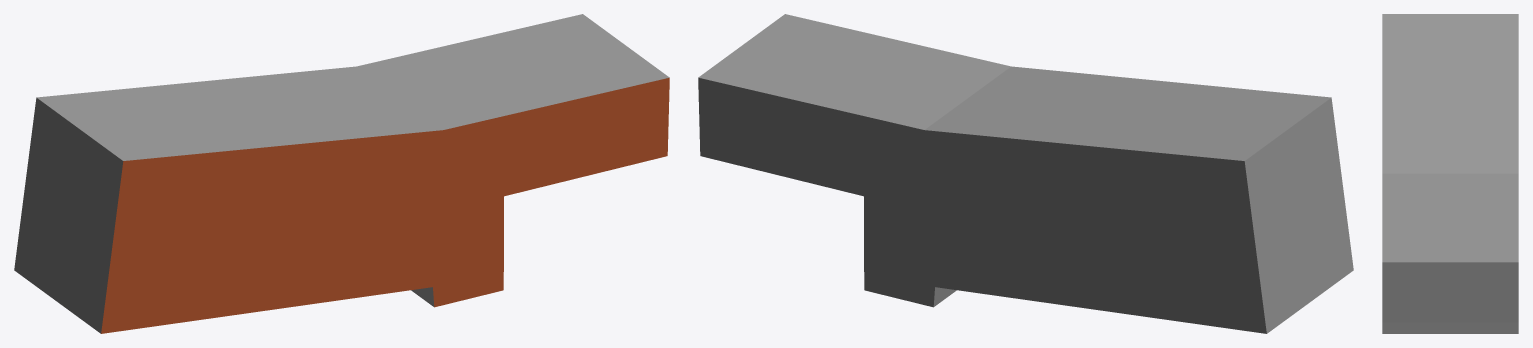
Rendered from construction_2143_assumed_A_Casa_h6m.obj.
The picture shows the model from 3 angles, left to right: view 1: azimuth 30°, elevation 25°; view 2: azimuth 150°, elevation 25°; view 3: azimuth 270°, elevation 25°; orthographic projection. The views are drawn at different scales.
Parts seen in each view (by area): view 1: construction_2143_assumed_A_Casa; view 2: construction_2143_assumed_A_Casa; view 3: construction_2143_assumed_A_Casa.
Part boxes in pixels (x1,y1,x2,y2): construction_2143_assumed_A_Casa: (14,14,669,333); construction_2143_assumed_A_Casa: (698,14,1353,333); construction_2143_assumed_A_Casa: (1382,14,1518,333).
Size of the model in its own units: 22.66 by 8.46 by 6.
